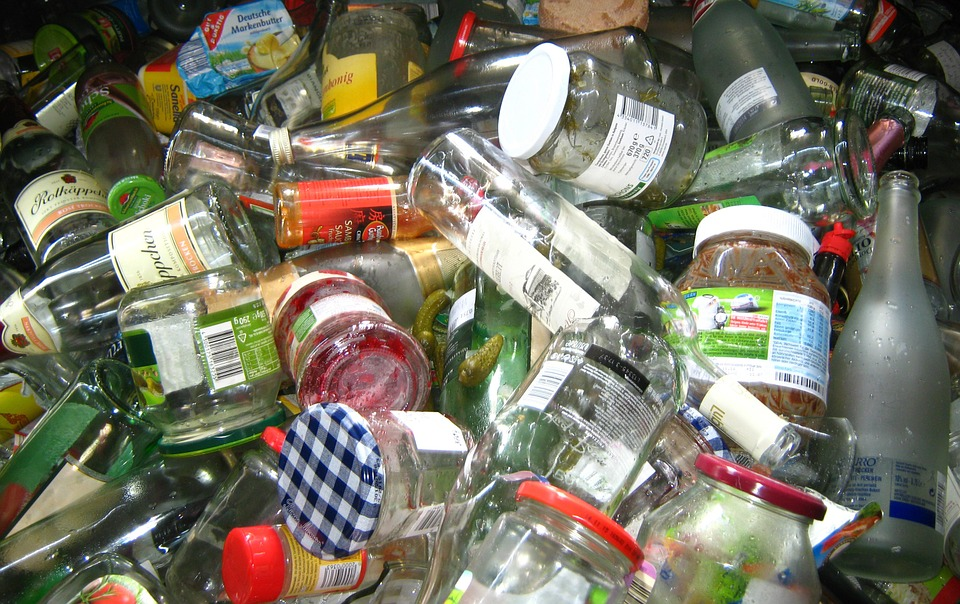garbage: (21, 11, 960, 601), (226, 119, 947, 603), (28, 76, 503, 392)
